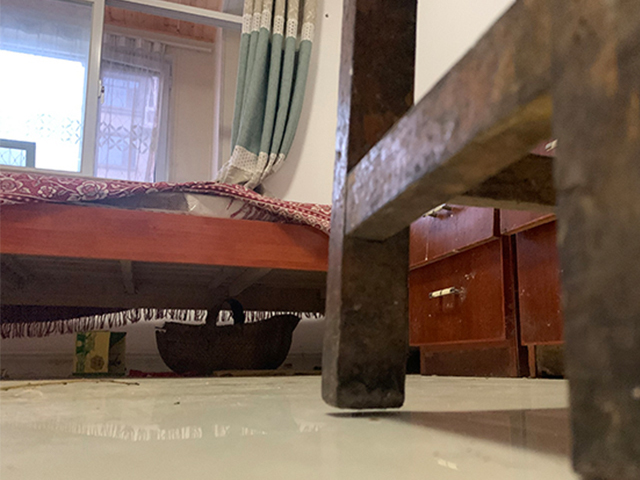bed: (1, 169, 331, 340)
cabinet: (408, 204, 564, 379)
curtain: (213, 1, 314, 195)
